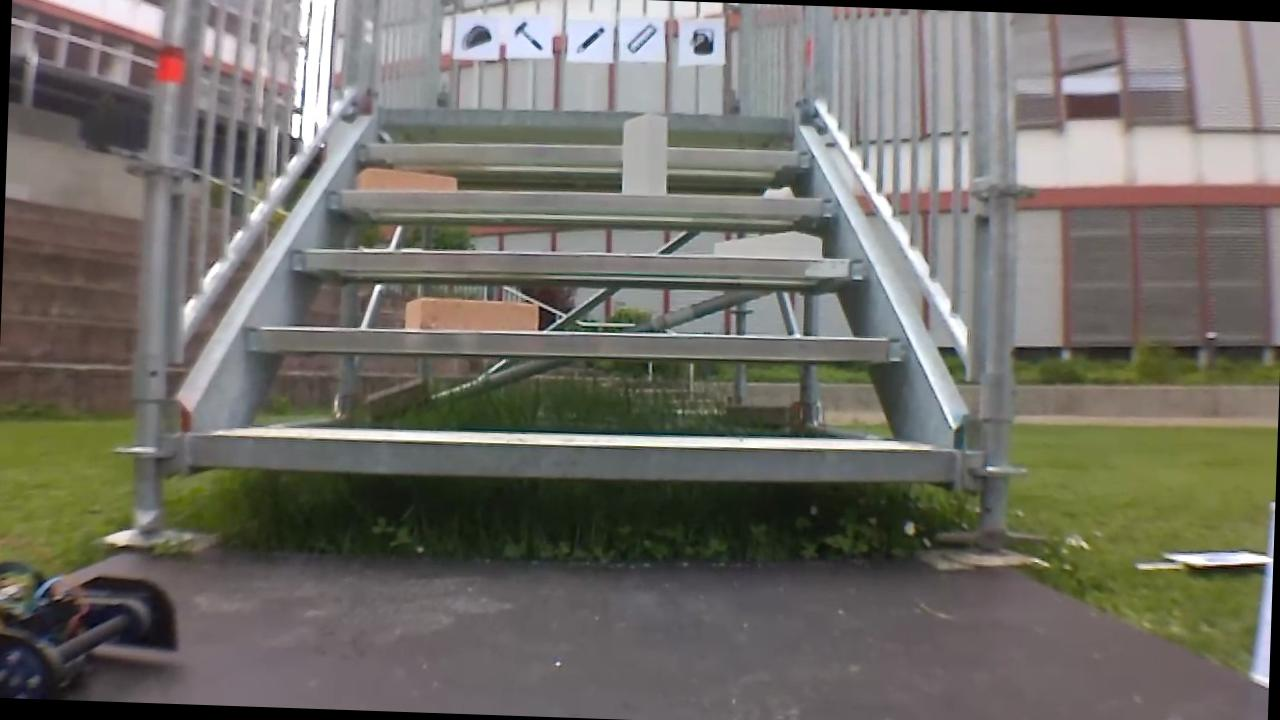brick: (403, 295, 537, 332), (620, 113, 668, 192), (352, 167, 455, 192)
bucket: (684, 24, 720, 58)
edge: (189, 423, 950, 488), (247, 315, 905, 368), (292, 238, 867, 286), (322, 179, 836, 220), (356, 133, 811, 171), (378, 101, 798, 134)
hammer: (509, 19, 544, 54)
pencil: (569, 22, 605, 55)
ruler: (619, 20, 660, 58)
steps: (173, 88, 974, 499)
taco: (458, 20, 497, 53)
